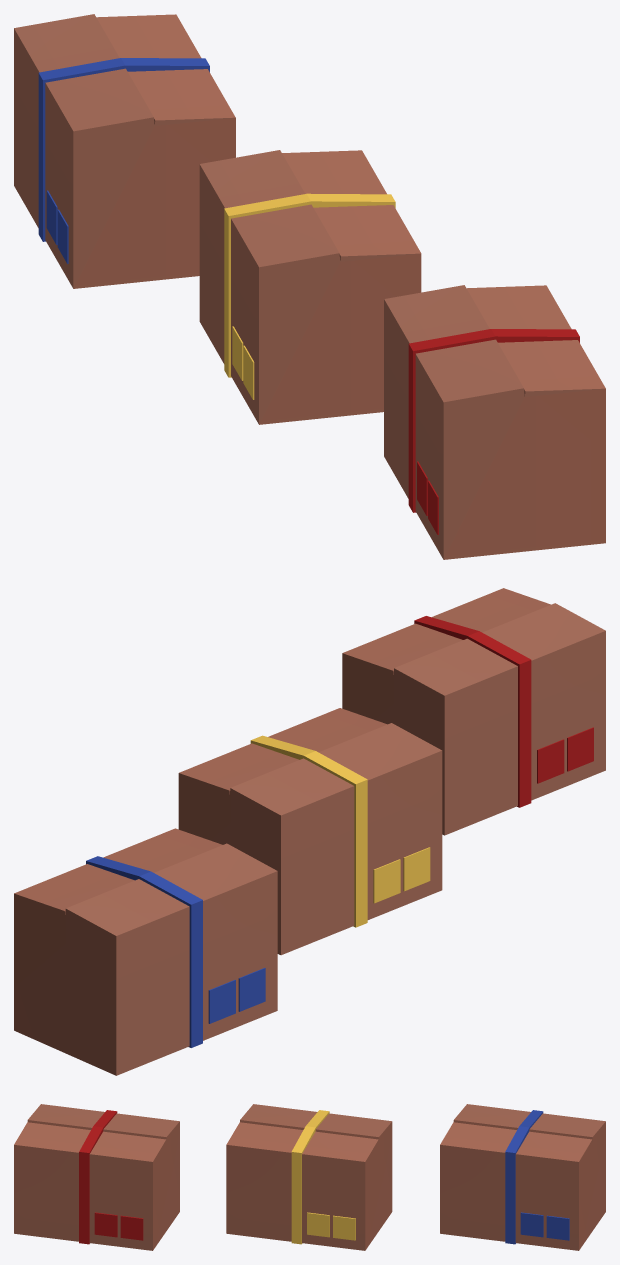
The model's file is Cargo_Boxes.fbx.
The picture shows the model from 3 angles, top to bottom: view 1: azimuth 30°, elevation 25°; view 2: azimuth 150°, elevation 25°; view 3: azimuth 270°, elevation 25°; orthographic projection. The views are drawn at different scales.
Parts seen in each view (by area): view 1: Box_2_mesh.010, Box_2_mesh.011, Box_2_mesh.005; view 2: Box_2_mesh.011, Box_2_mesh.005, Box_2_mesh.010; view 3: Box_2_mesh.005, Box_2_mesh.010, Box_2_mesh.011.
Boxes of the visible parts, box(x1,y1,x2,y2) form: Box_2_mesh.010: box(384, 285, 605, 559); Box_2_mesh.011: box(14, 14, 235, 288); Box_2_mesh.005: box(199, 150, 421, 424); Box_2_mesh.011: box(14, 828, 277, 1075); Box_2_mesh.005: box(178, 708, 442, 955); Box_2_mesh.010: box(342, 588, 605, 835); Box_2_mesh.005: box(226, 1104, 392, 1250); Box_2_mesh.010: box(14, 1104, 179, 1250); Box_2_mesh.011: box(440, 1104, 605, 1250).
Bounding box in the file's own units: 70.31 × 56.37 × 313.
Materials: 1 (1 with a texture image).
